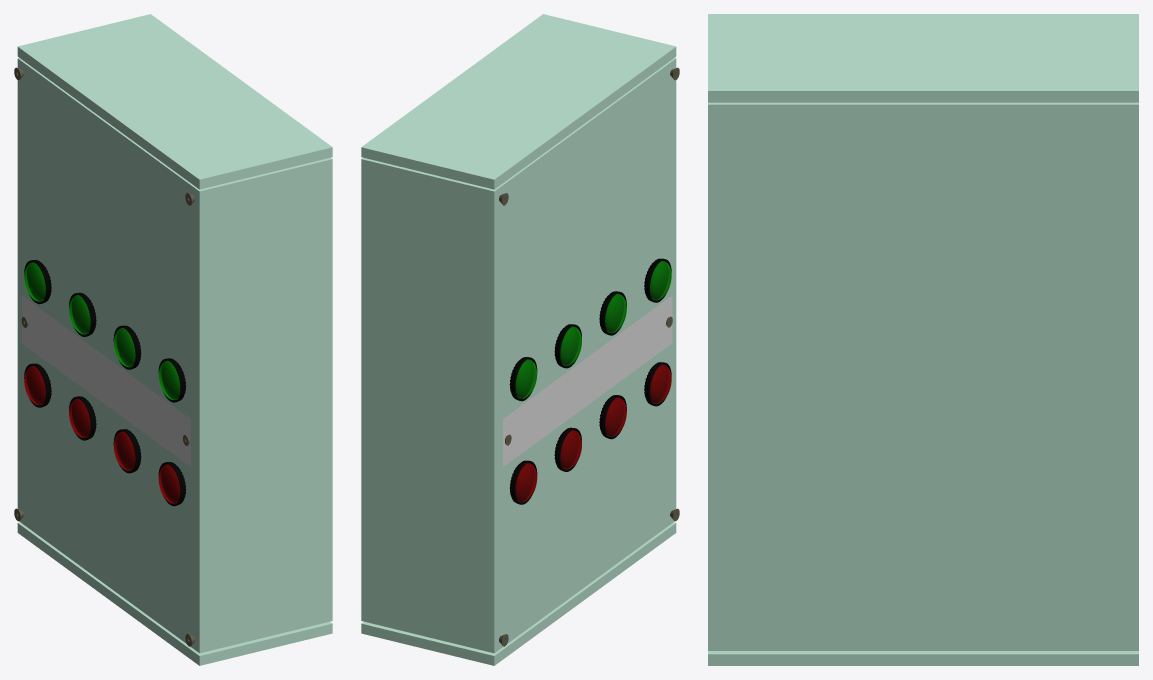
The model's file is ControlStation.fbx.
The picture shows the model from 3 angles, left to right: view 1: azimuth 30°, elevation 25°; view 2: azimuth 150°, elevation 25°; view 3: azimuth 270°, elevation 25°; orthographic projection. The views are drawn at different scales.
Parts seen in each view (by area): view 1: Cube.054, Cube.055, Plane.029, Cube.056, Cylinder.036, Cylinder.037; view 2: Cube.054, Cube.055, Plane.029, Cube.056, Cylinder.037, Cylinder.036; view 3: Cube.054, Cube.055, Cube.056.
Boxes of the visible parts, x1,y1,x2,y2 form: Cube.054: (17, 58, 332, 653); Cube.055: (17, 14, 332, 189); Plane.029: (21, 295, 190, 466); Cube.056: (17, 522, 332, 665); Cylinder.036: (24, 363, 186, 506); Cylinder.037: (24, 260, 185, 402); Cube.054: (361, 58, 676, 653); Cube.055: (361, 14, 676, 189); Plane.029: (503, 295, 672, 466); Cube.056: (361, 522, 676, 665); Cylinder.037: (509, 258, 671, 401); Cylinder.036: (509, 362, 671, 504); Cube.054: (708, 102, 1138, 650); Cube.055: (708, 14, 1138, 102); Cube.056: (708, 651, 1138, 665).
Bounding box in the file's own units: 15 × 47.55 × 32.27.
